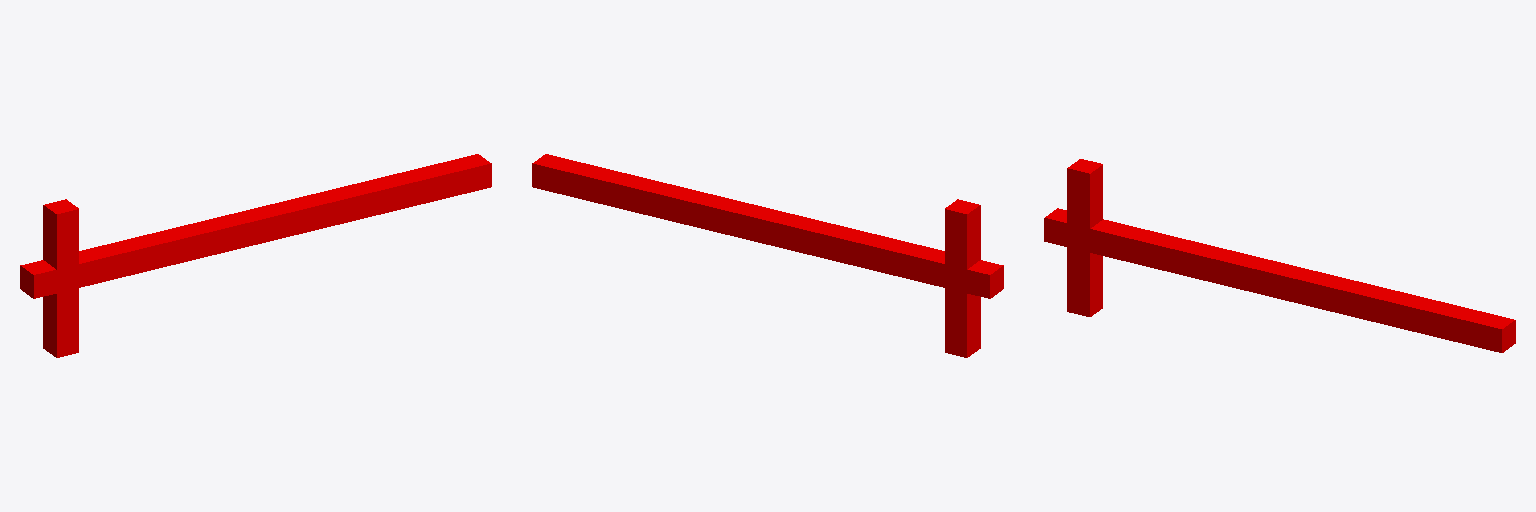
The robot description file, URDF, robot "bar":
<?xml version="1.0"?>

<robot name="bar">

    <material name="red">
        <color rgba="1 0 0 1" />
    </material>

    <link name="base_link">
        <visual>
            <origin rpy="0 0 0" xyz="0 0 0" />
            <geometry>
                <box size="0.1 0.1 0.6" />
            </geometry>
            <material name="red"/>
        </visual>

        <collision>
            <origin rpy="0 0 0" xyz="0 0 0" />
            <geometry>
             <box size="0.1 0.1 0.6" />
            </geometry>
        </collision>

    </link>

    <link name="body_link">
        <visual>   
            <origin rpy="0 0 0" xyz="0.85 0 0" />
            <geometry>
                <box size="2 0.1 0.1" />
            </geometry>
            <material name="red"/>
        </visual>

        <collision>
            <origin rpy="0 0 0" xyz="0.85 0 0" />
            <geometry>
             <box size="2 0.1 0.1" /> <!-- Preguntar ALTURA DEL CHASSIS ESPECIFICACION POSIBILIDAD DE SUSPENSO-->
            </geometry>
        </collision>

    </link>

    <joint name="base_to_body" type="revolute">
        <parent link="base_link" />
        <child link="body_link" />
        <origin xyz="0 0 0.02" />
        <axis xyz="0 0 1" /> <!-- Rotation on Z axis-->

        <limit lower="1.5708" upper="0" effort="10.0" velocity="0.5" /> <!-- Permitted rotation on 90 degrees range-->
    </joint>


</robot>

--- Facts derived from the render (not from the file) ---
3 views of the same robot in one strip: view 1: azimuth 30°, elevation 25°; view 2: azimuth 150°, elevation 25°; view 3: azimuth 330°, elevation 25° (orthographic).
Robot: bar — 2 links, 1 joints (1 revolute); root link base_link; default pose: all joints at 0.
Visible links, largest first — view 1: body_link, base_link; view 2: body_link, base_link; view 3: body_link, base_link.
Link boxes in pixels (box(x1,y1,x2,y2)): body_link: box(20, 154, 491, 298); base_link: box(43, 199, 78, 357); body_link: box(532, 154, 1003, 298); base_link: box(945, 199, 980, 357); body_link: box(1044, 208, 1515, 352); base_link: box(1067, 159, 1102, 316).
Size in the robot's own frame: 2 by 0.1 by 0.6 metres.
Geometry: primitives only (box / cylinder / sphere), no mesh files.
